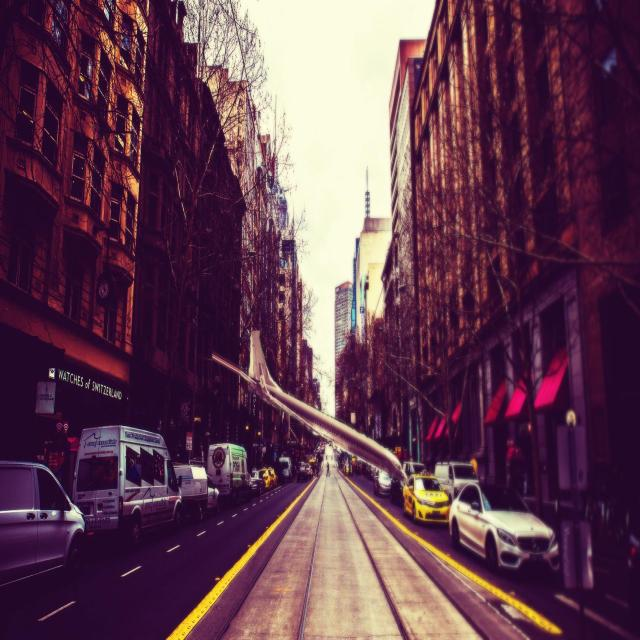airplane: (211, 328, 409, 484)
